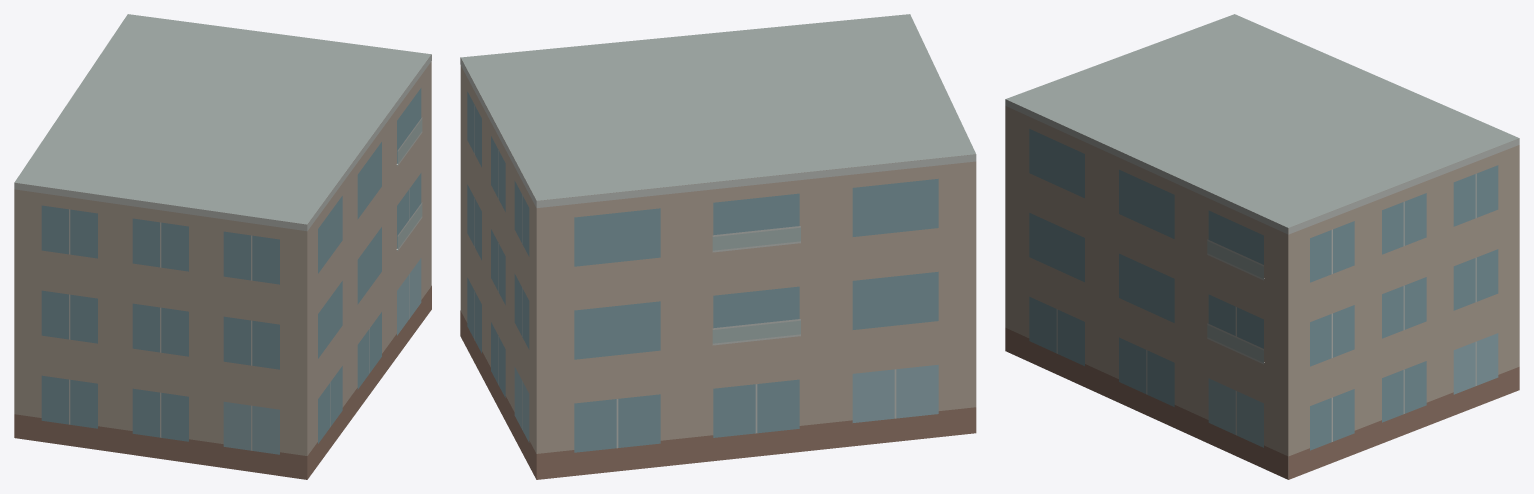
The model's file is survey-upis-32921902.glb.
3 renders of one model, left to right at view 1: azimuth 30°, elevation 25°; view 2: azimuth 150°, elevation 25°; view 3: azimuth 270°, elevation 25°, orthographic. The views are drawn at different scales.
Visible parts, largest first — view 1: survey-upis-32921902.tmp; view 2: survey-upis-32921902.tmp; view 3: survey-upis-32921902.tmp.
Boxes of the visible parts, x1,y1,x2,y2 form: survey-upis-32921902.tmp: (14, 14, 431, 479); survey-upis-32921902.tmp: (460, 14, 976, 479); survey-upis-32921902.tmp: (1005, 14, 1519, 479).
Bounding box in the file's own units: 16.96 × 9.3 × 17.22.
